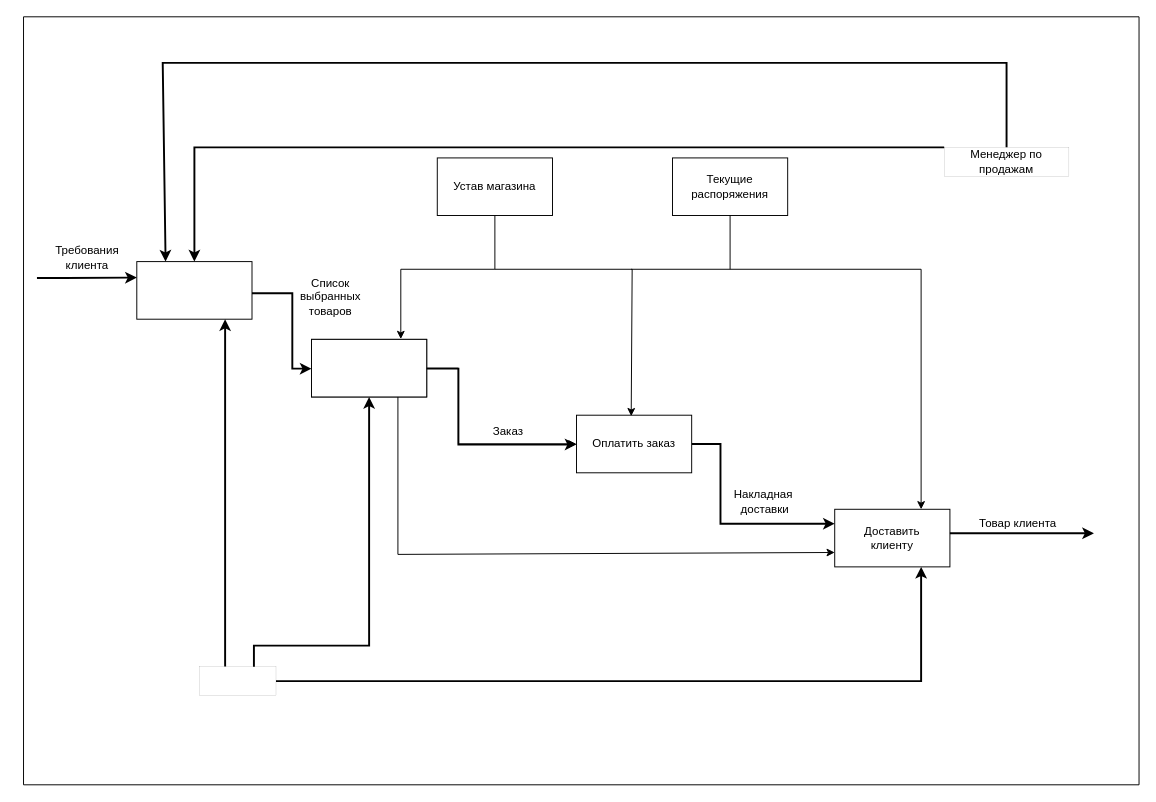
The diagram is 1156 pixels wide and 802 high, and some of its shapes have lost their labels. The shapes that lost their labels are listed below. From the top down, each one's centre as x and y in pixels, then its label:
(194,290): Выбрать товар
(369,367): Сформировать заказ
(237,680): Клиент
